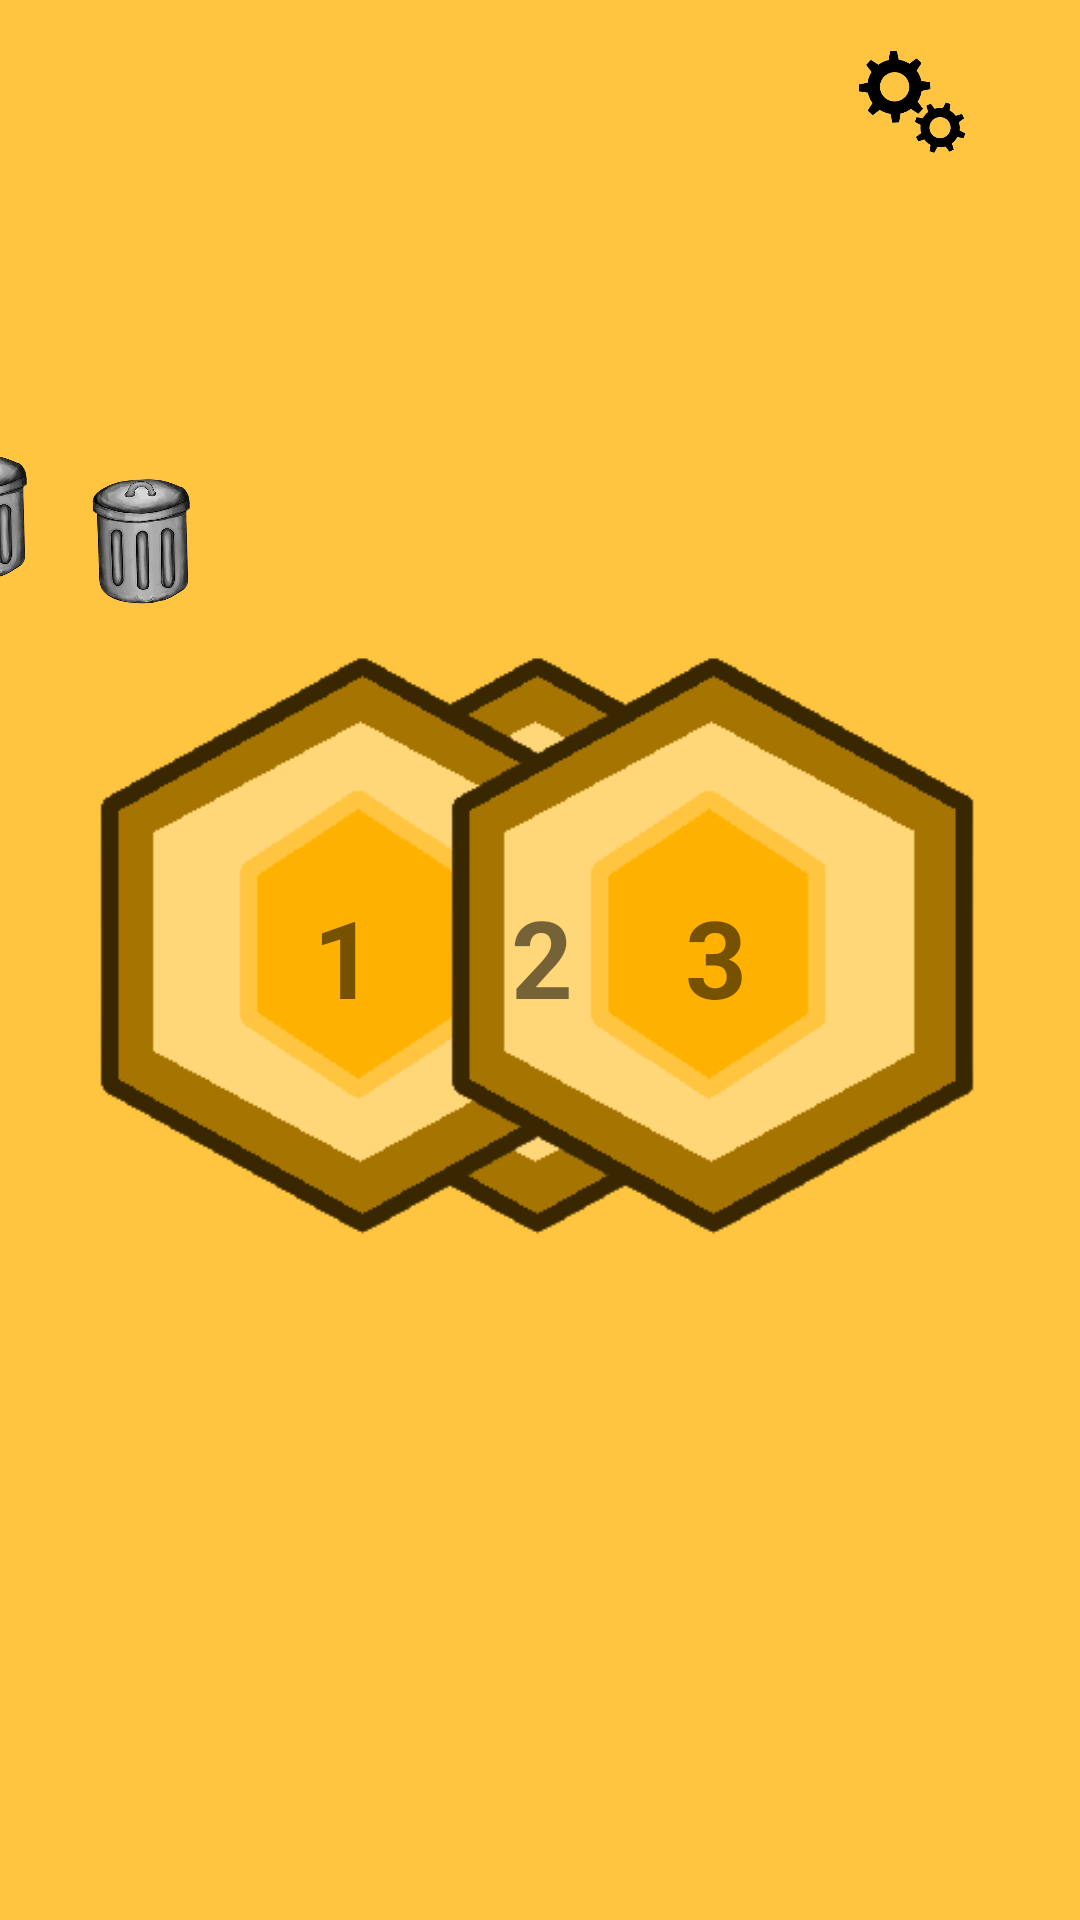

Screen size 1080w x 1920h. Icon name, then its center in pixels as [x,y]:
gear: [912,102]
